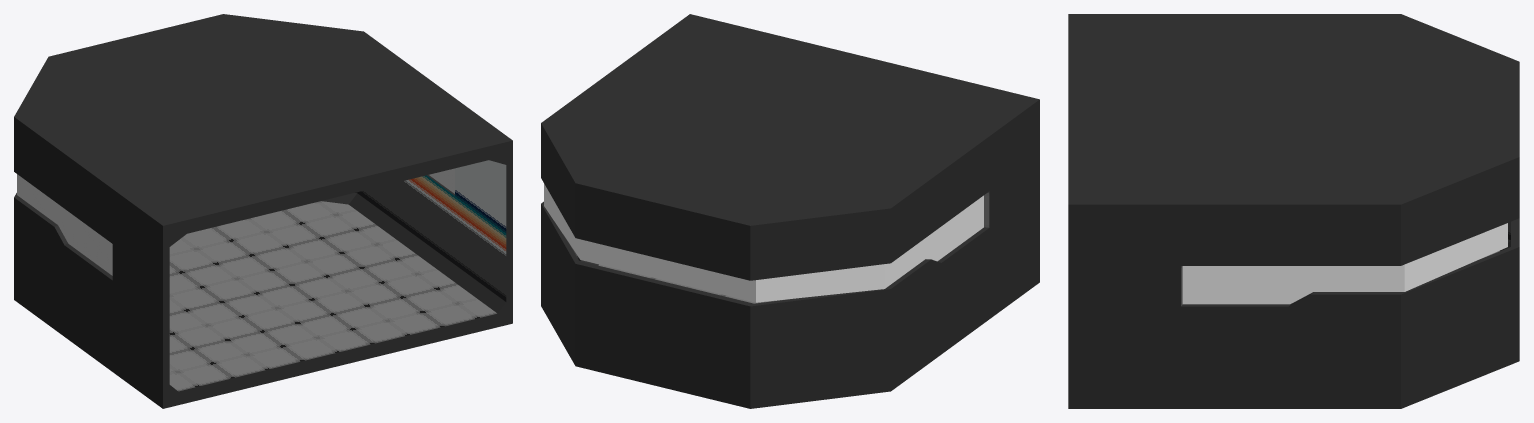
Rendered from ShipFlightDeckNEW.gltf.
3 renders of one model, left to right at view 1: azimuth 30°, elevation 25°; view 2: azimuth 150°, elevation 25°; view 3: azimuth 270°, elevation 25°, orthographic. The views are drawn at different scales.
Parts seen in each view (by area): view 1: Ceiling, Floor, Walls, Glass; view 2: Ceiling, Walls, Glass, Floor; view 3: Ceiling, Walls, Glass, Floor.
Part boxes in pixels (box(x1,y1,x2,y2)): Ceiling: box(14, 14, 512, 239); Floor: box(14, 201, 512, 408); Walls: box(14, 131, 512, 394); Glass: box(17, 168, 454, 275); Ceiling: box(541, 14, 1039, 239); Walls: box(541, 113, 1039, 395); Glass: box(544, 183, 983, 302); Floor: box(541, 264, 1039, 408); Ceiling: box(1068, 14, 1519, 219); Walls: box(1068, 172, 1519, 393); Glass: box(1182, 223, 1507, 304); Floor: box(1068, 251, 1519, 408).
Size of the model in its own units: 5 by 2.5 by 5.
Materials: 2 (1 with a texture image).
